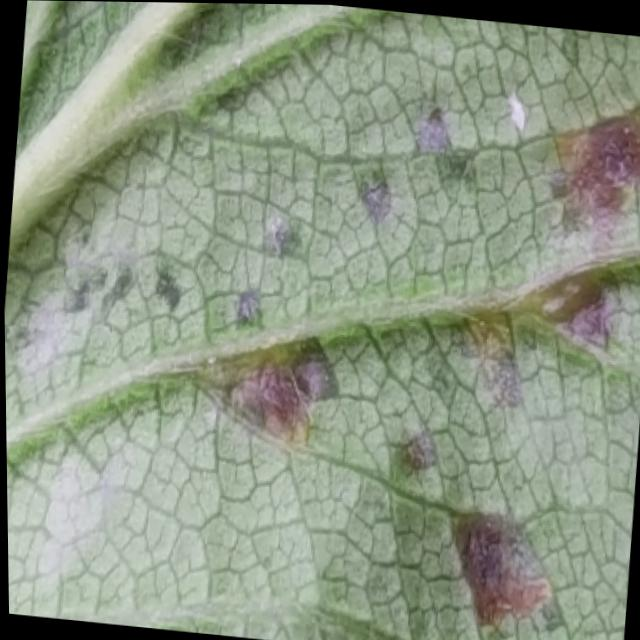Angular Leafspot: (4, 78, 640, 640)
